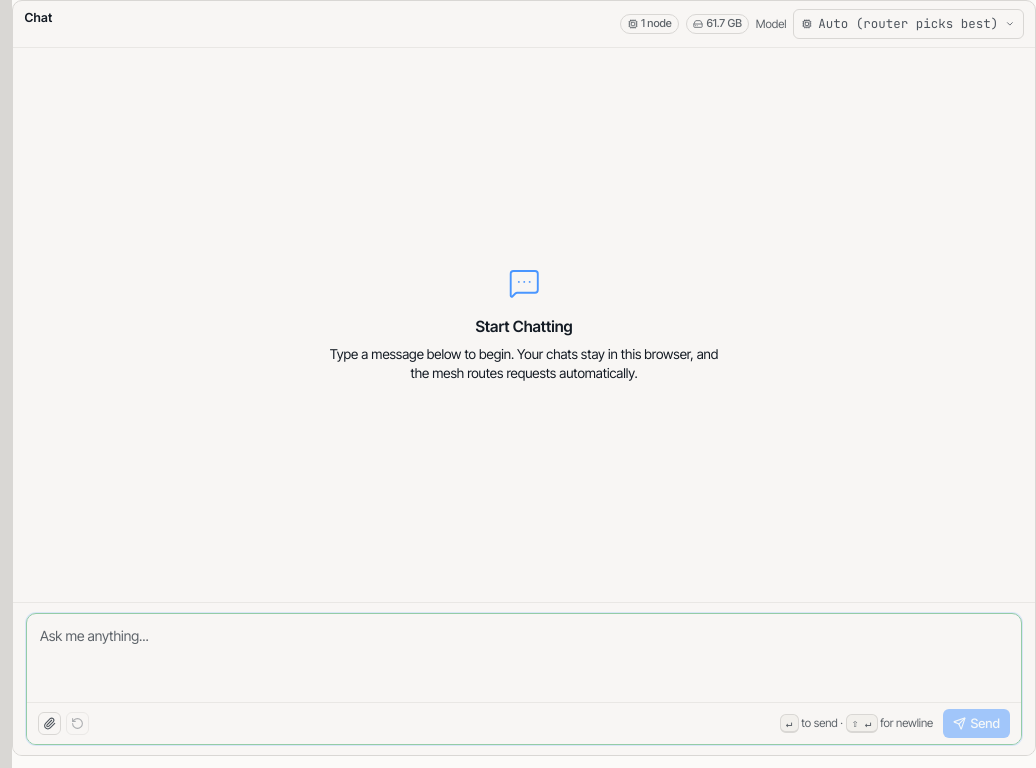
Test: ChatPage › does not retarget either hidden lane when creating a third chat while two chats stream
This screenshot has width=1036, height=768.
Type "First stream stays alive" into the text box named "Prompt" at (524, 658), box [27, 614, 1021, 702]
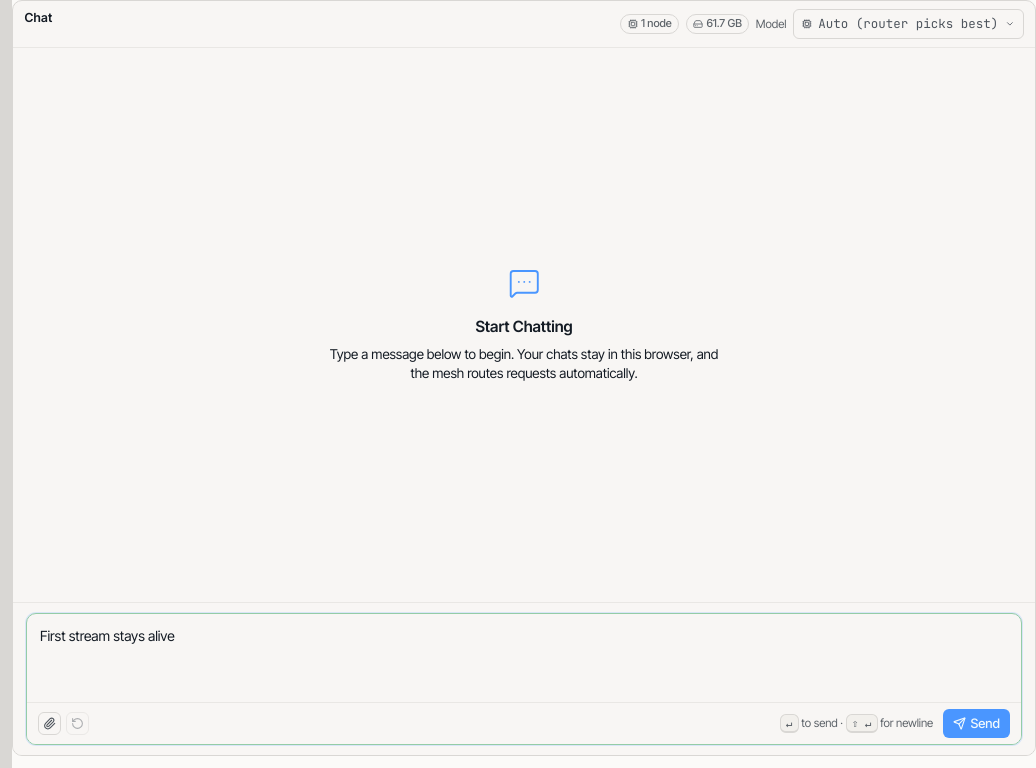
Click the button "Send" at (976, 724), box [943, 709, 1010, 738]
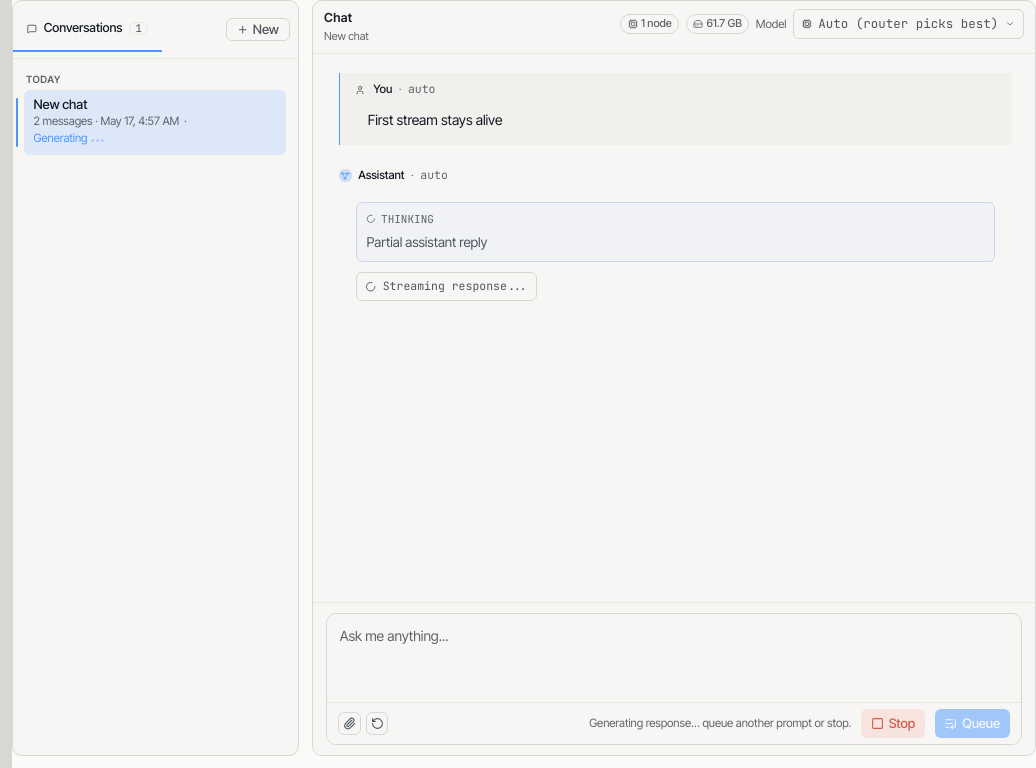
expect the text "Partial assistant reply" is shown: met, box [366, 234, 487, 250]
Click the button "New" at (258, 30), box [226, 18, 290, 41]
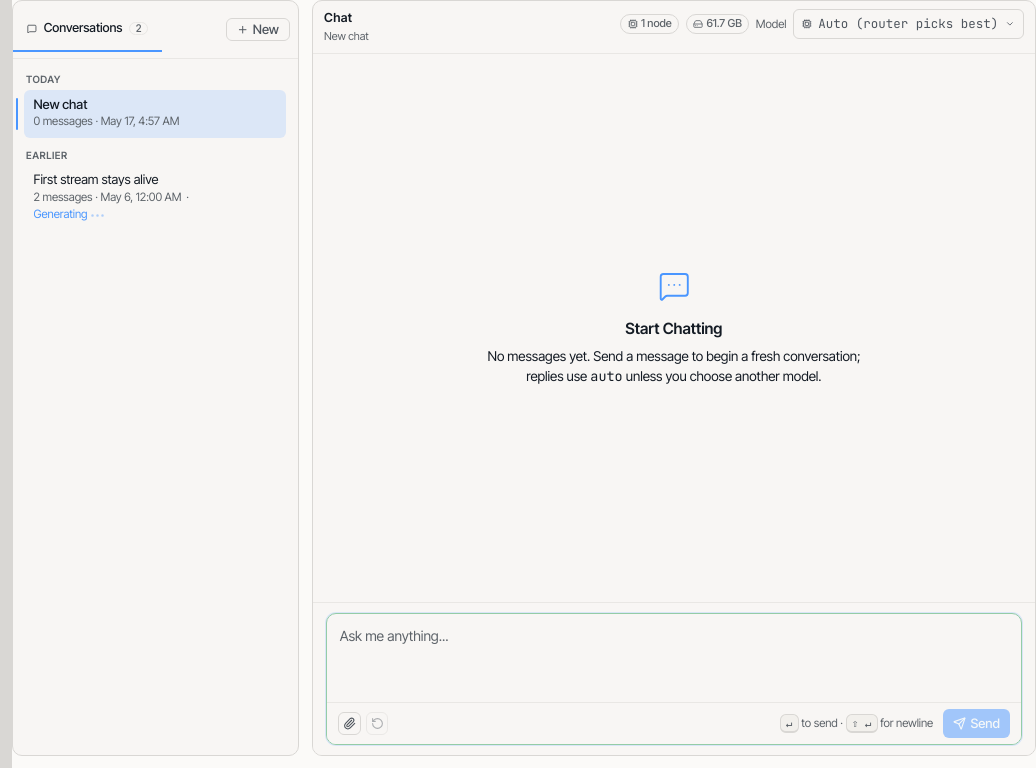
Type "Second stream also stays alive" into the text box named "Prompt" at (674, 658), box [327, 614, 1021, 702]
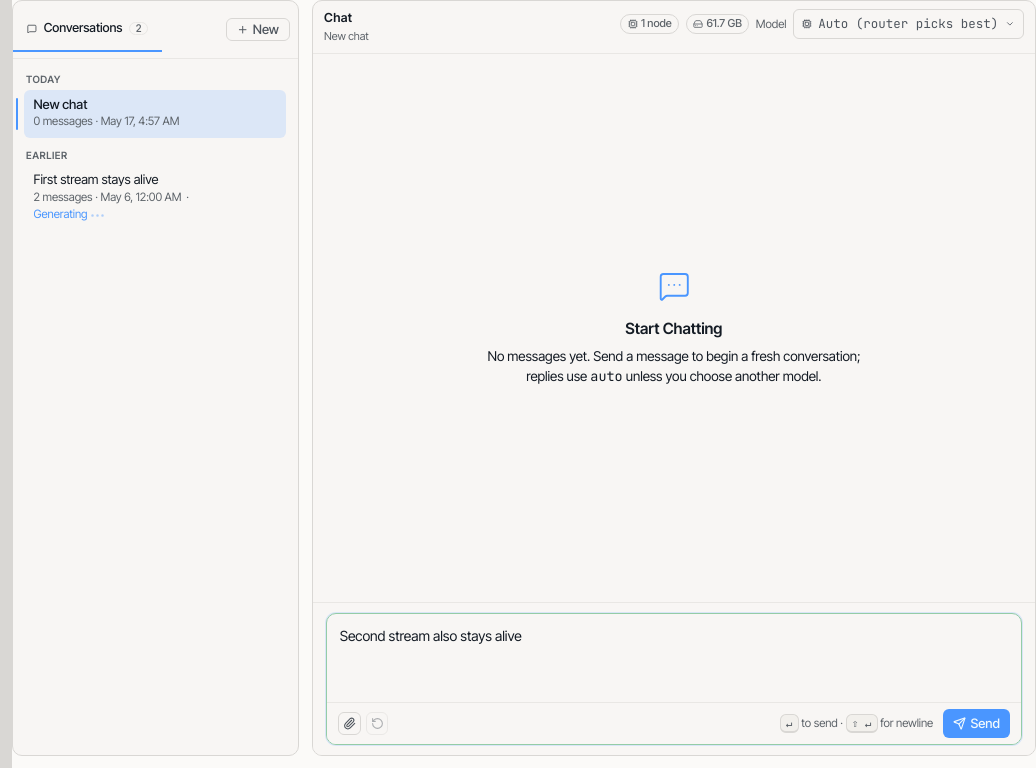
Click the button "Send" at (976, 724), box [943, 709, 1010, 738]
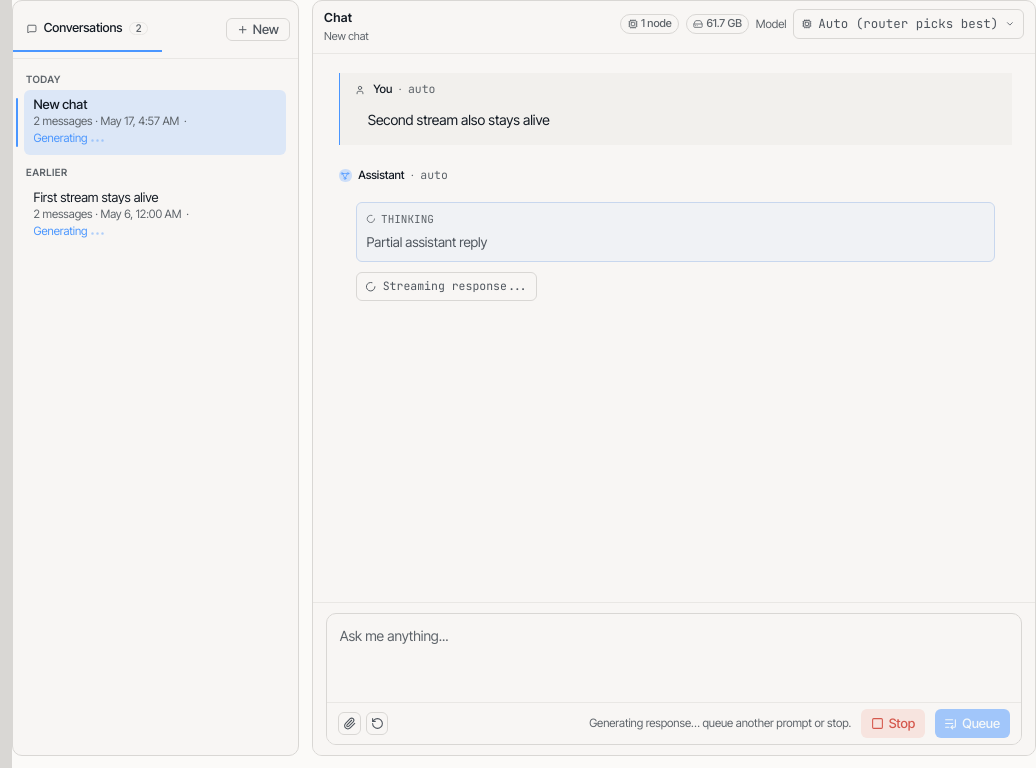
Click the button "New" at (258, 30), box [226, 18, 290, 41]
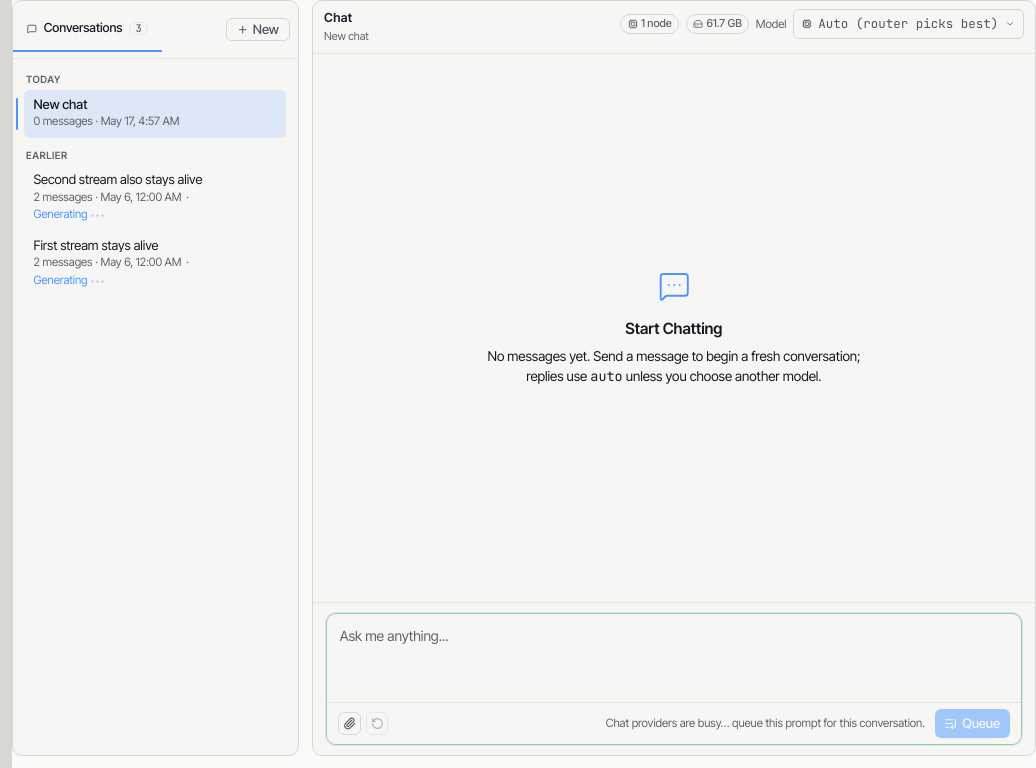
expect the heading "Start Chatting" is shown: met, box [625, 319, 722, 338]
